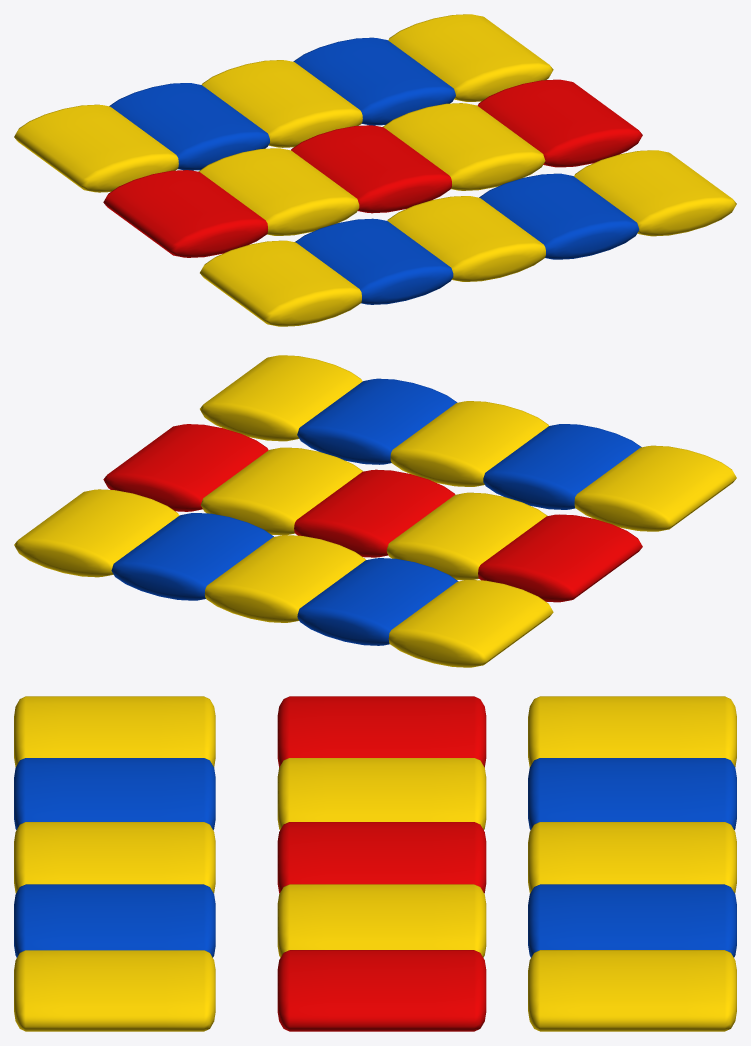
Rendered from FinalPaths_vanilla.fbx.
3 views of the same model, one above another, from view 1: azimuth 30°, elevation 25°; view 2: azimuth 150°, elevation 25°; view 3: azimuth 270°, elevation 25° (orthographic). The views are drawn at different scales.
Parts seen in each view (by area): view 1: pCylinder173, pCylinder175, pCylinder174; view 2: pCylinder174, pCylinder175, pCylinder173; view 3: pCylinder173, pCylinder174, pCylinder175.
Boxes of the visible parts, box(x1,y1,x2,y2) form: pCylinder173: box(103, 79, 642, 257); pCylinder175: box(200, 150, 736, 326); pCylinder174: box(14, 14, 553, 192); pCylinder174: box(14, 489, 553, 667); pCylinder175: box(200, 355, 736, 531); pCylinder173: box(103, 424, 642, 602); pCylinder173: box(277, 696, 486, 1031); pCylinder174: box(528, 696, 736, 1031); pCylinder175: box(14, 696, 215, 1031).
Size of the model in its own units: 1445 by 88.09 by 1361.
